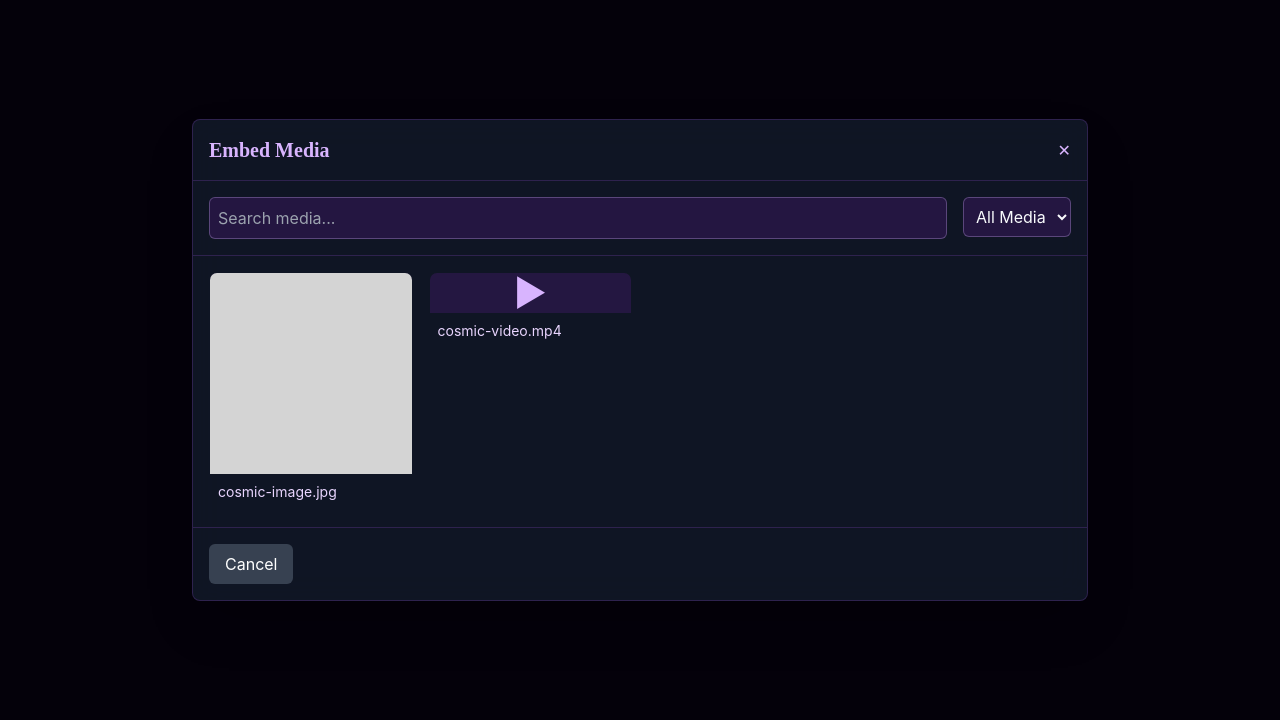
MediaEmbedder Component › filters media files by search term
Check: the text "cosmic-image.jpg" is shown, box [218, 483, 337, 500]
Enter search term
Type "video" into the field with placeholder "Search media..." at {"x": 578, "y": 218}, box [209, 197, 947, 239]
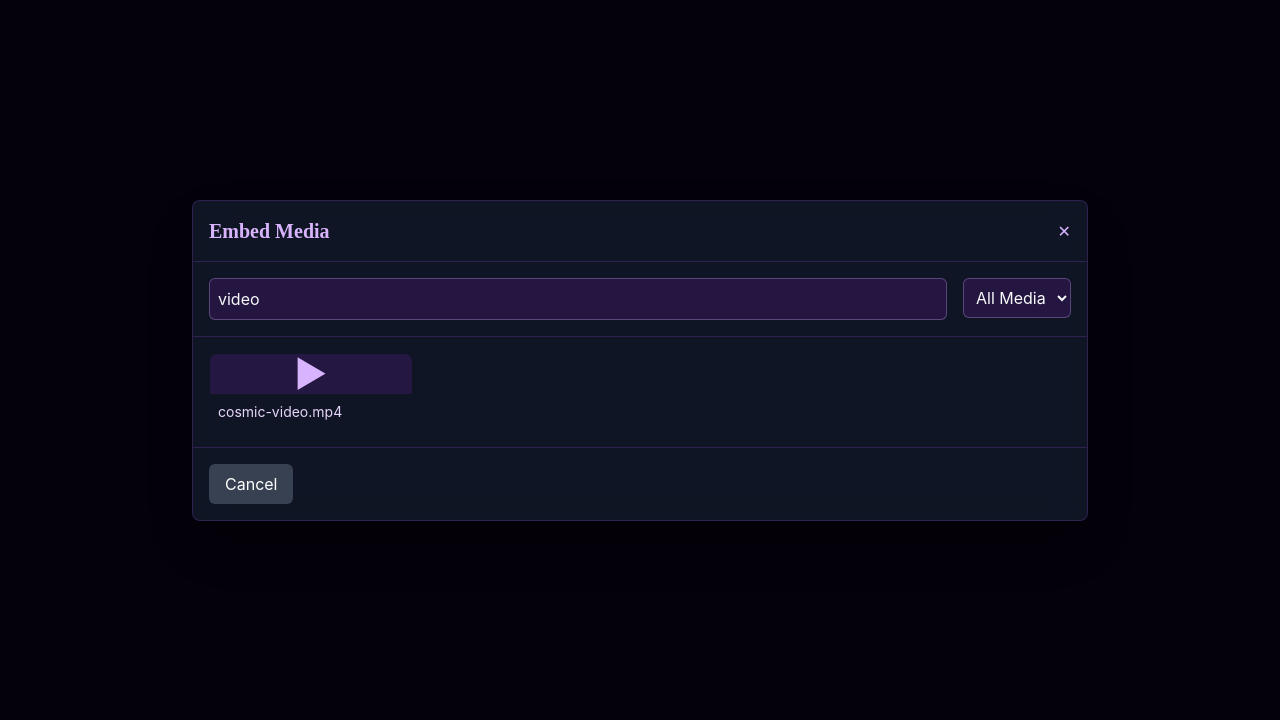
Check: the text "cosmic-video.mp4" is shown, box [218, 402, 342, 420]
Check: the text "cosmic-image.jpg" is gone
